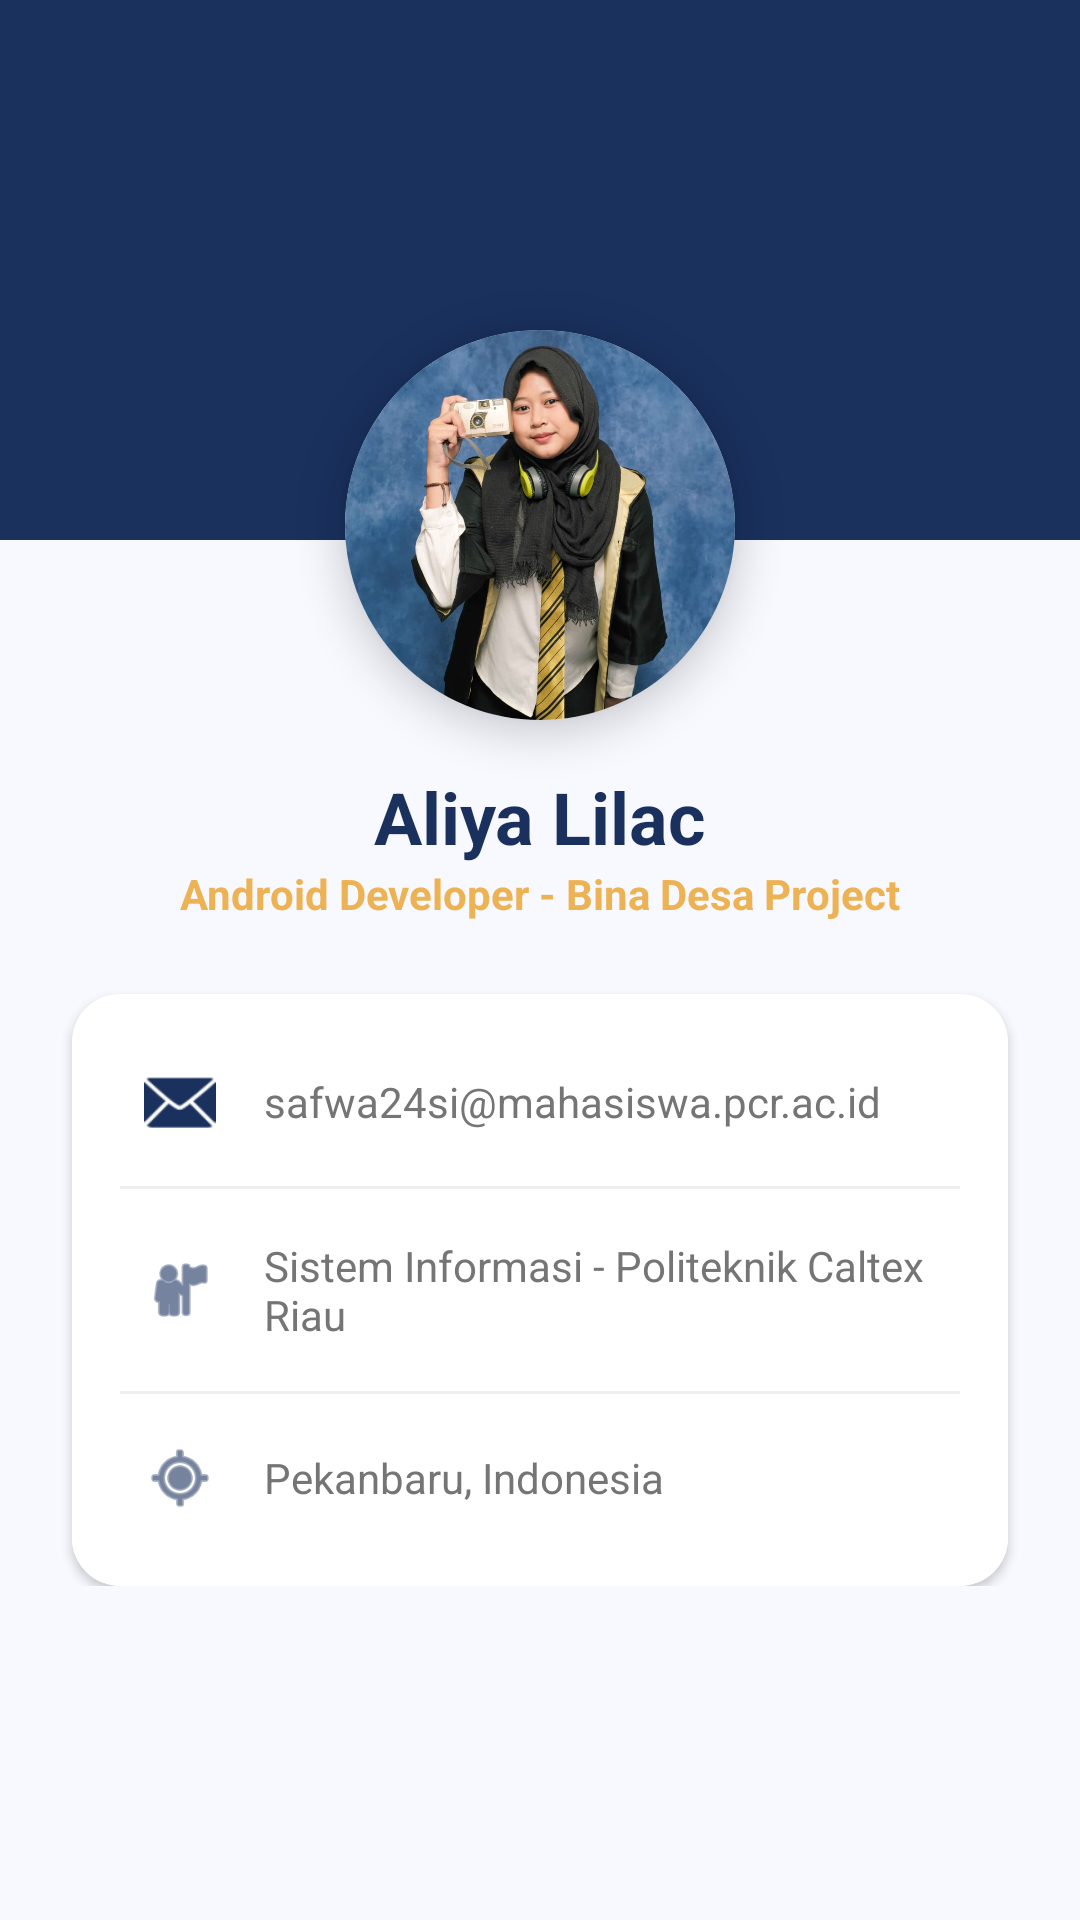

Screen size 1080x1920. Icon name, then its box in pixels as (x1, y1, x2, y2):
email: (144, 1077, 216, 1128)
mylocation: (151, 1449, 209, 1507)
myplaces: (154, 1263, 208, 1317)
